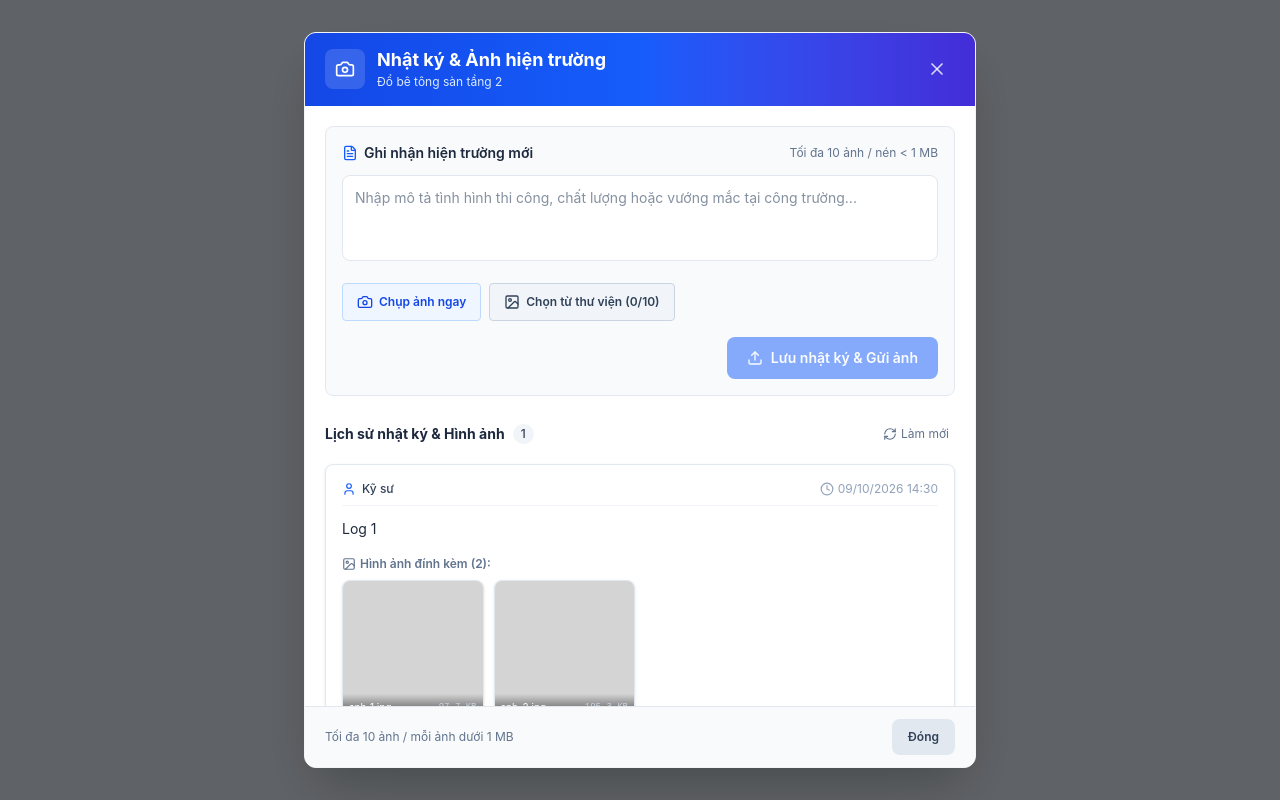
Test: TaskLogModal (S-23 / T-53) › T54 – Thumbnail & Xem ảnh gốc theo yêu cầu › AC2: Điều hướng Next / Prev và đóng viewer bằng nút Đóng hoặc phím Escape không làm mất danh sách
// Mở ảnh 1
Click the button with test id "thumbnail-item-1" at (413, 651), box left=342, top=580, right=484, bottom=722
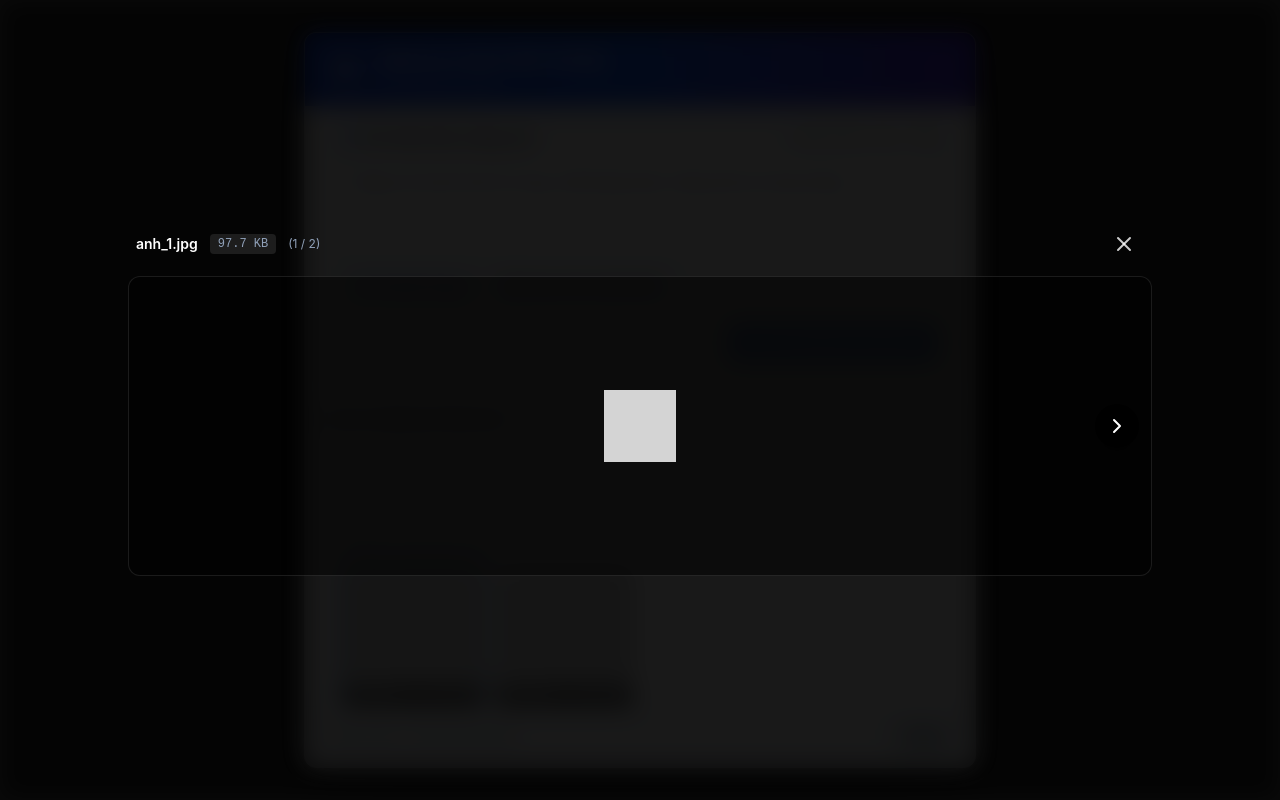
Result: the dialog with test id "image-viewer-modal" is shown
Result: the text "(1 / 2)" is shown at left=288, top=236, right=320, bottom=252
// Chuyển sang ảnh 2 bằng nút Next
Click the button named "Ảnh tiếp theo" at (1117, 426), box left=1095, top=404, right=1139, bottom=448
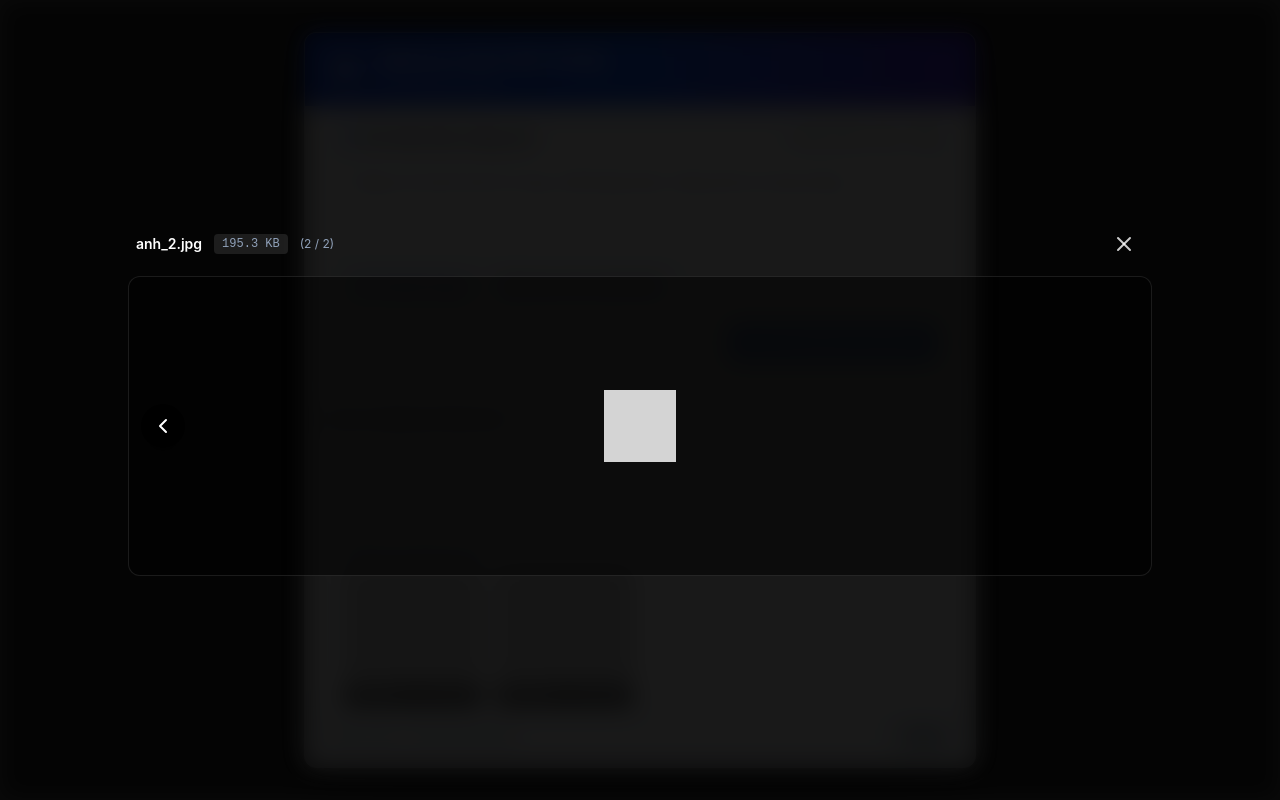
Result: the text "(2 / 2)" is shown at left=300, top=236, right=334, bottom=252
// Đóng viewer bằng phím Escape
Press Escape
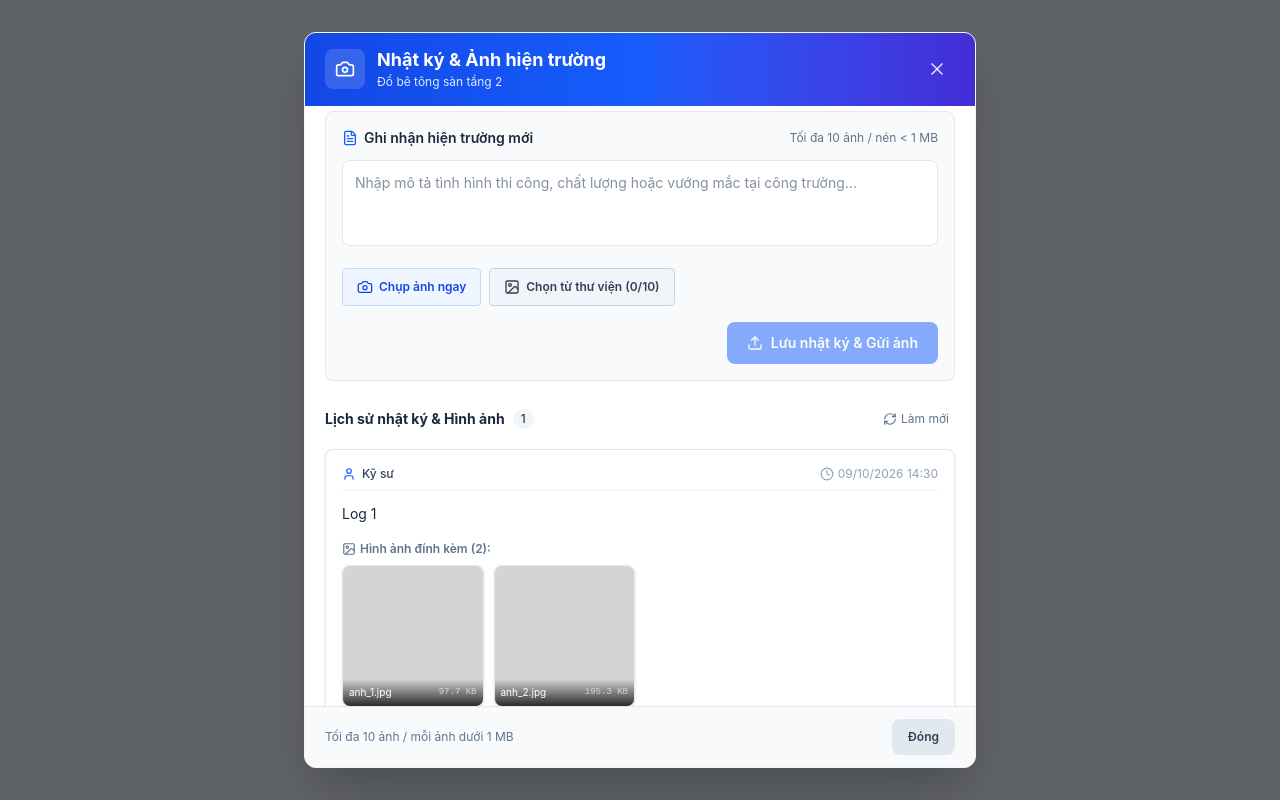
Expected: the text "Log 1" is shown, left=342, top=504, right=376, bottom=522
Result: the dialog with test id "image-viewer-modal" is gone
